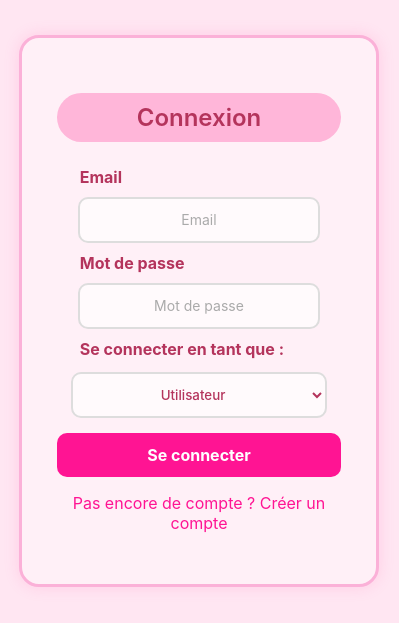
Test: validation: affiche erreurs si champs vides ou email invalide
Click the button "Se connecter" at (199,455), box [57,433,341,477]
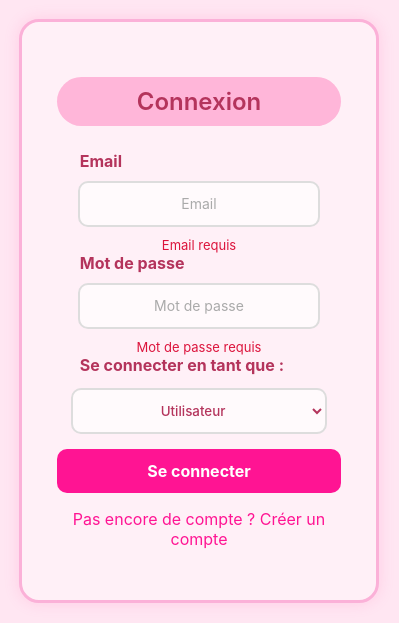
Expected: the text "Email requis" is shown, [162,237,236,253]
Expected: the text "Mot de passe requis" is shown, [136,339,261,355]
# entrer email invalide
Type "bademail" into the field with placeholder "Email" at (199,204), box [78,181,320,227]
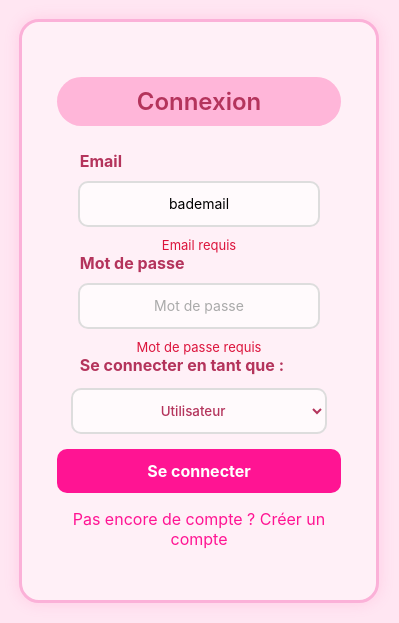
Type "pwd" into the password field with placeholder "Mot de passe" at (199,306), box [78,283,320,329]
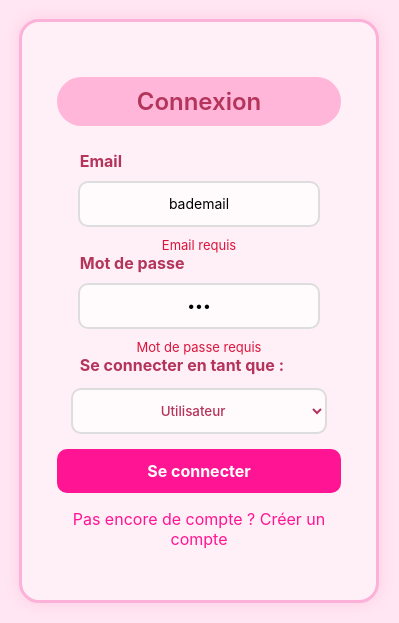
Click the button "Se connecter" at (199,471), box [57,449,341,493]
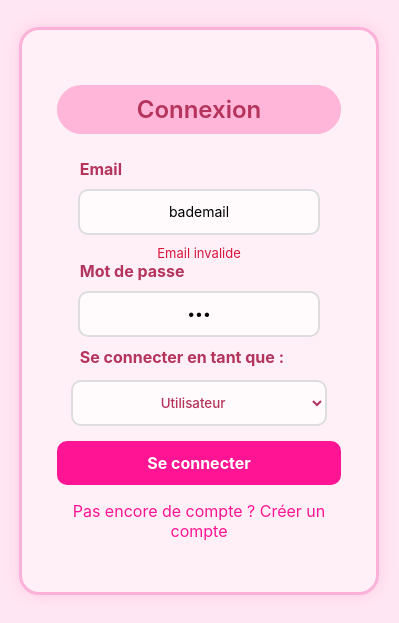
Expected: the text "Email invalide" is shown, [157,245,241,261]
